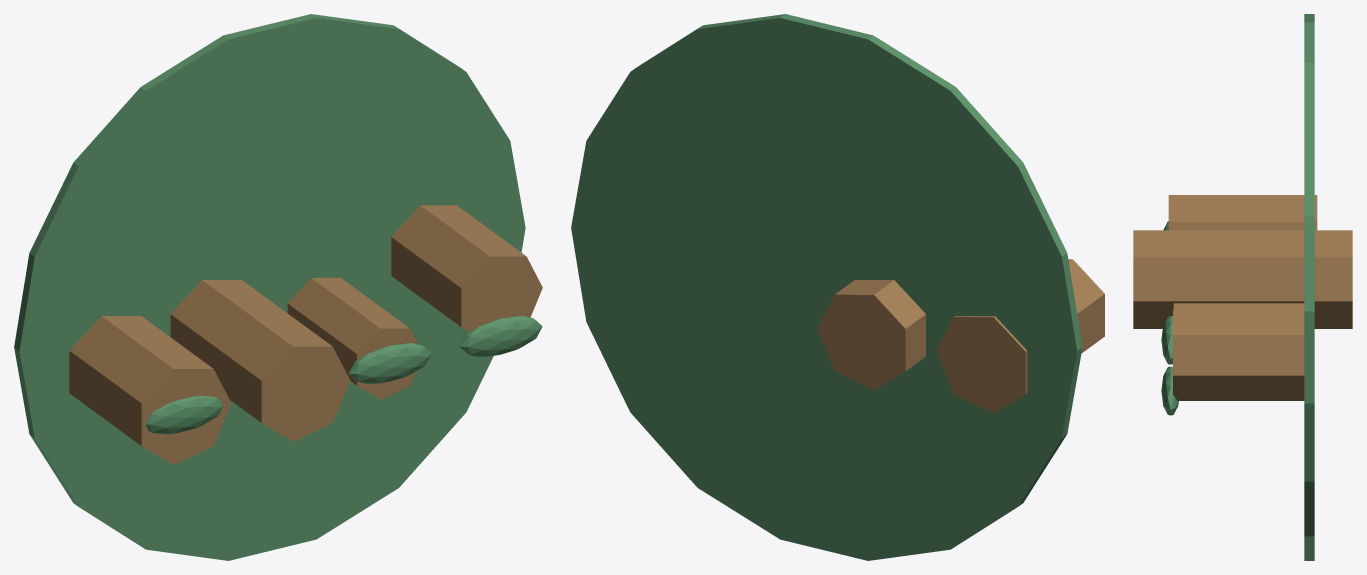
File: 02_local_prop_cluster.glb
3 views of the same model, side by side, from view 1: azimuth 30°, elevation 25°; view 2: azimuth 150°, elevation 25°; view 3: azimuth 270°, elevation 25° (orthographic). The views are drawn at different scales.
Parts seen in each view (by area): view 1: scatter_base, root_stump_1, root_stump_0, root_stump_3, root_stump_2, moss_2, moss_3, moss_0; view 2: scatter_base, root_stump_1, root_stump_0; view 3: root_stump_1, root_stump_3, scatter_base, root_stump_0, root_stump_2, moss_3, moss_2.
Boxes of the visible parts, <box> form: scatter_base: <box>14,14,525,560</box>; root_stump_1: <box>170,280,350,441</box>; root_stump_0: <box>69,316,231,464</box>; root_stump_3: <box>391,205,542,331</box>; root_stump_2: <box>287,277,417,399</box>; moss_2: <box>348,343,431,384</box>; moss_3: <box>459,316,542,357</box>; moss_0: <box>145,395,222,434</box>; scatter_base: <box>571,14,1082,560</box>; root_stump_1: <box>817,280,925,389</box>; root_stump_0: <box>936,259,1104,413</box>; root_stump_1: <box>1133,230,1352,328</box>; root_stump_3: <box>1173,310,1304,400</box>; scatter_base: <box>1304,14,1314,560</box>; root_stump_0: <box>1168,195,1317,230</box>; root_stump_2: <box>1173,303,1304,310</box>; moss_3: <box>1161,366,1178,415</box>; moss_2: <box>1161,315,1172,364</box>.
Bounding box in the file's own units: 1.9 × 1.87 × 0.7594.
